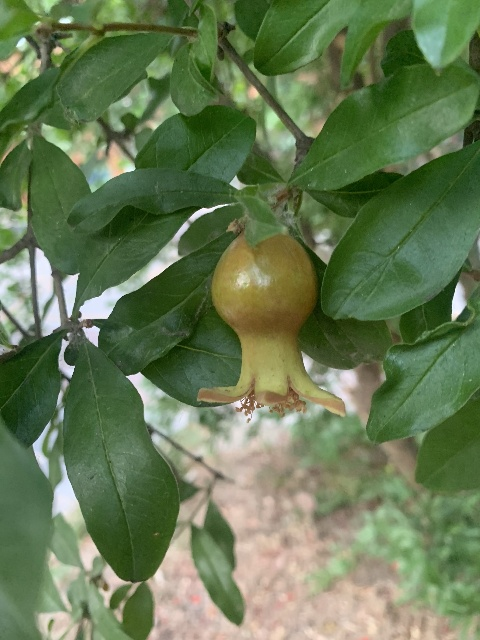early-fruit: (196, 230, 350, 420)
